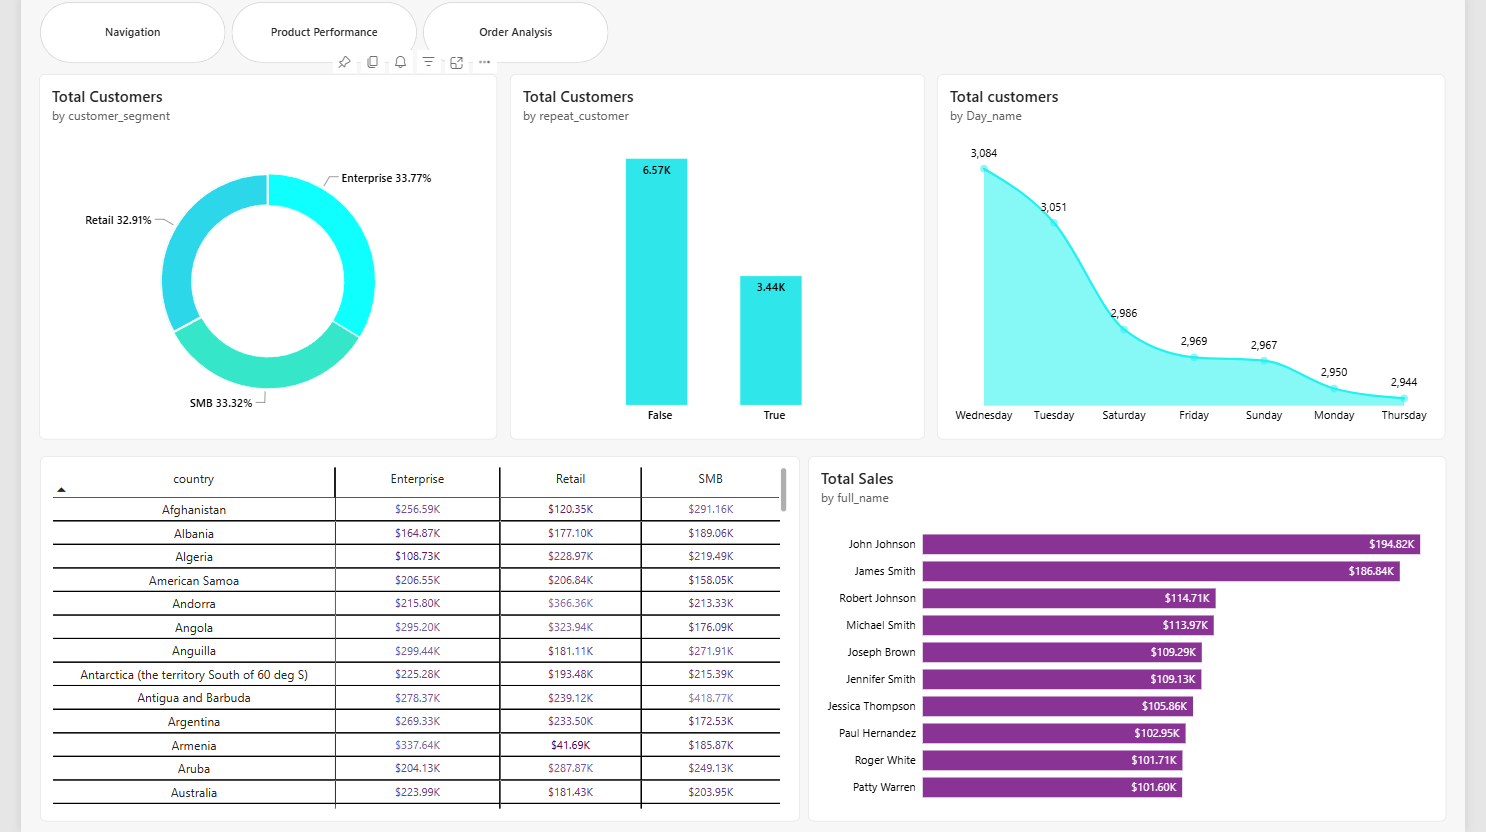

This screenshot's page, from the dashboard's own definition file:
{"tool":"powerbi","page":{"name":"Customer Insights","canvas":[1900,1100],"ordinal":4},"visuals":[{"type":"pageNavigator","box":[24.4,8,750,80],"z":0},{"type":"donutChart","fields":{"Category":["vw_customers.customer_segment"],"Y":["Calculations.Total Customers"]},"box":[24.3,102.9,602.9,481.4],"z":1000},{"type":"barChart","fields":{"Category":["vw_customers.full_name"],"Y":["Calculations.Total Sales"]},"box":[1035,605.5,839.9,480.9],"z":2000},{"type":"lineChart","fields":{"Category":["Date Table.Day_name"],"Y":["Calculations.New Total customers"]},"box":[1205.7,102.9,668.6,481.4],"z":3000},{"type":"clusteredColumnChart","fields":{"Category":["vw_customers.repeat_customer"],"Y":["Calculations.Total Customers"]},"box":[643.6,102.9,545.7,481.4],"z":4000},{"type":"pivotTable","fields":{"Columns":["vw_customers.customer_segment"],"Rows":["vw_customers.country"],"Values":["Calculations.Total Sales"]},"box":[24.4,605.5,1000,480.9],"z":5000}]}

Visuals, with their boxes on the page's 1900x1100 design canvas (x1, y1, x2, y2). These are canvas units, not pixel positions in the 1486x832 screenshot, which may show the page scaled, cropped or inside an application window:
pageNavigator: (x1=24, y1=8, x2=774, y2=88)
donutChart - vw_customers.customer_segment x Calculations.Total Customers: (x1=24, y1=103, x2=627, y2=584)
barChart - vw_customers.full_name x Calculations.Total Sales: (x1=1035, y1=606, x2=1875, y2=1086)
lineChart - Date Table.Day_name x Calculations.New Total customers: (x1=1206, y1=103, x2=1874, y2=584)
clusteredColumnChart - vw_customers.repeat_customer x Calculations.Total Customers: (x1=644, y1=103, x2=1189, y2=584)
pivotTable - vw_customers.customer_segment x vw_customers.country: (x1=24, y1=606, x2=1024, y2=1086)
